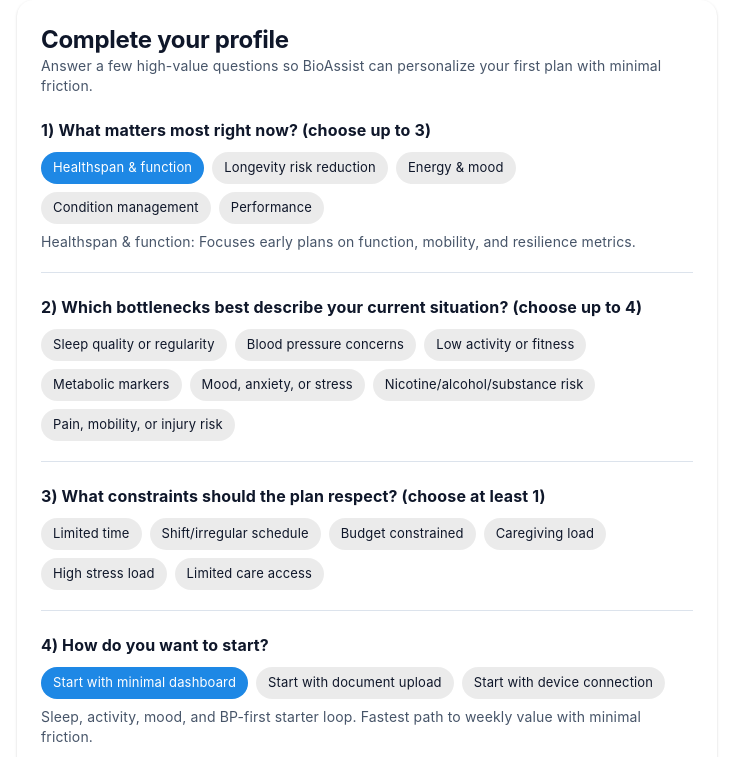
Scenario: OnboardingPage › shows dynamic detail text when option is selected
Click the button "Blood pressure concerns" at (325, 345), box top-left (235, 329), bottom-right (416, 361)
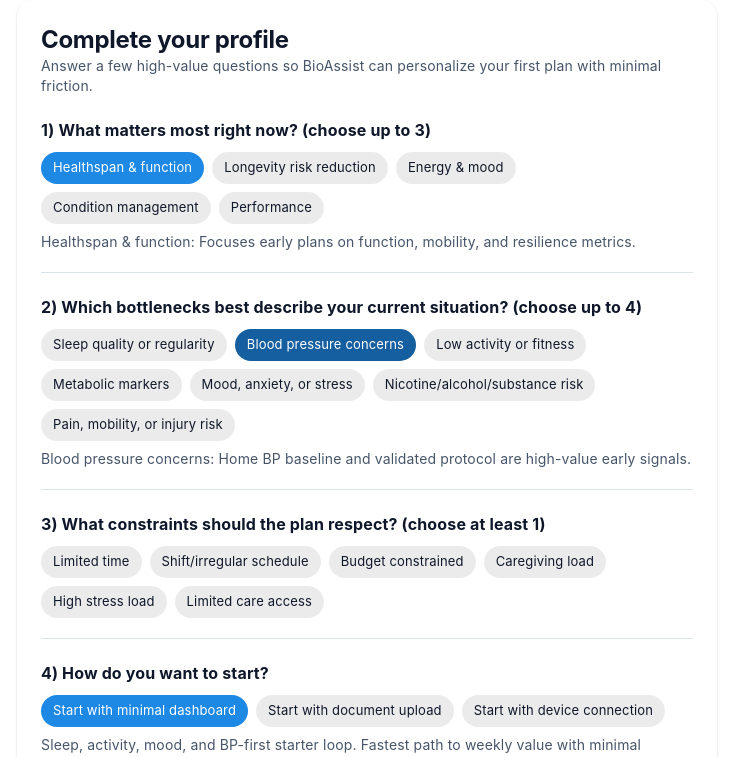
Check: the text "Home BP baseline and validated protocol" is shown, box top-left (218, 450), bottom-right (691, 467)
